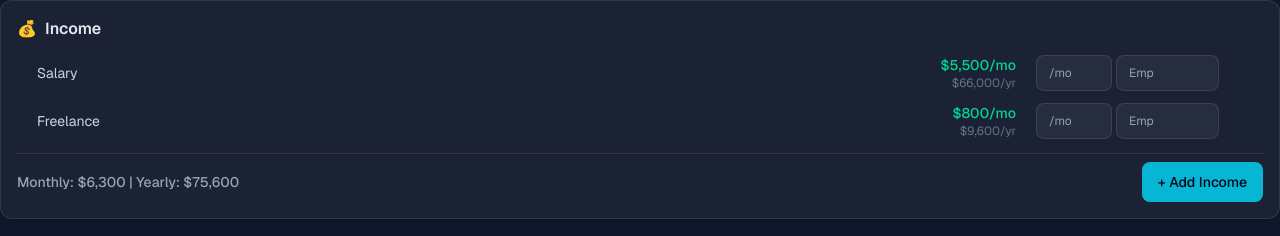
Test: IncomeEntry component › shows click-to-edit input when category is clicked
Click the button with aria-label "Edit category for Salary" at (57, 73), box [29, 59, 86, 87]
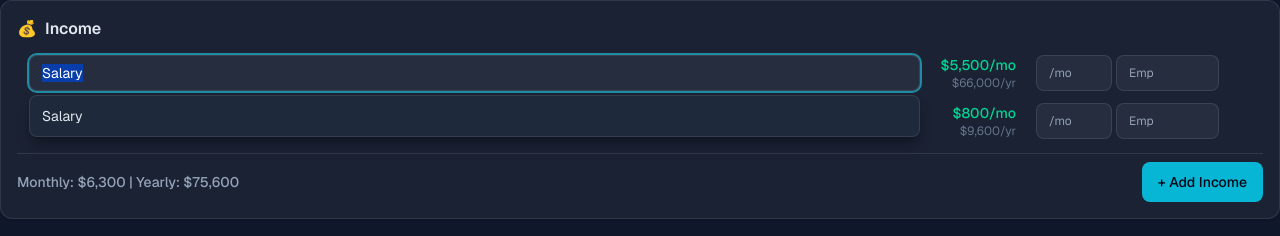
Result: the field named "Edit category name" is shown at [29, 55, 920, 91]
